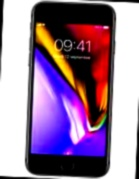iphone: (27, 2, 113, 177)
